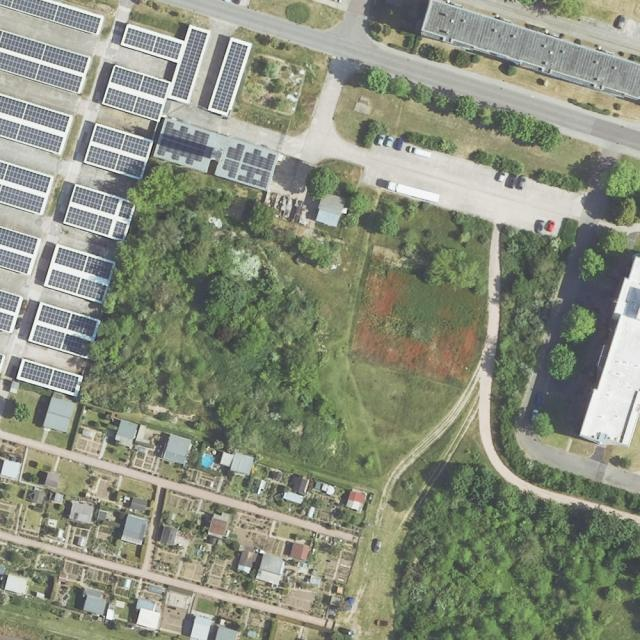PV: (122, 22, 208, 101), (0, 31, 96, 92), (66, 187, 138, 240), (0, 97, 70, 151), (31, 303, 98, 358), (101, 67, 170, 119), (48, 247, 114, 300), (87, 127, 150, 178), (209, 43, 250, 115), (0, 2, 101, 31), (154, 120, 209, 169), (0, 165, 56, 212), (220, 141, 278, 186), (0, 226, 44, 278), (20, 360, 81, 396), (2, 289, 22, 333)
